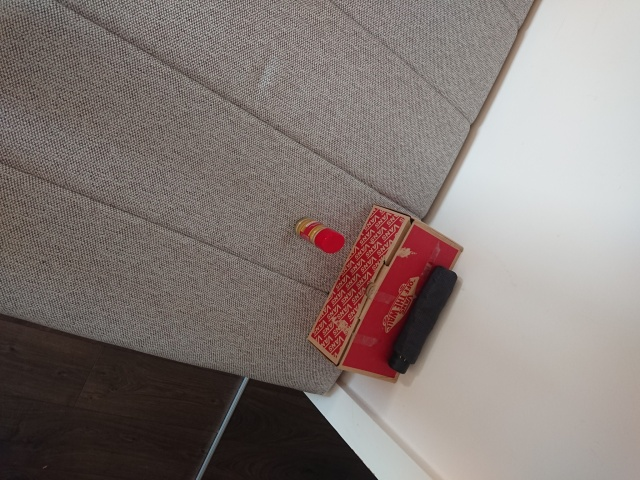Kotanyi Curry Spices Mix 70g: (293, 216, 347, 255)
